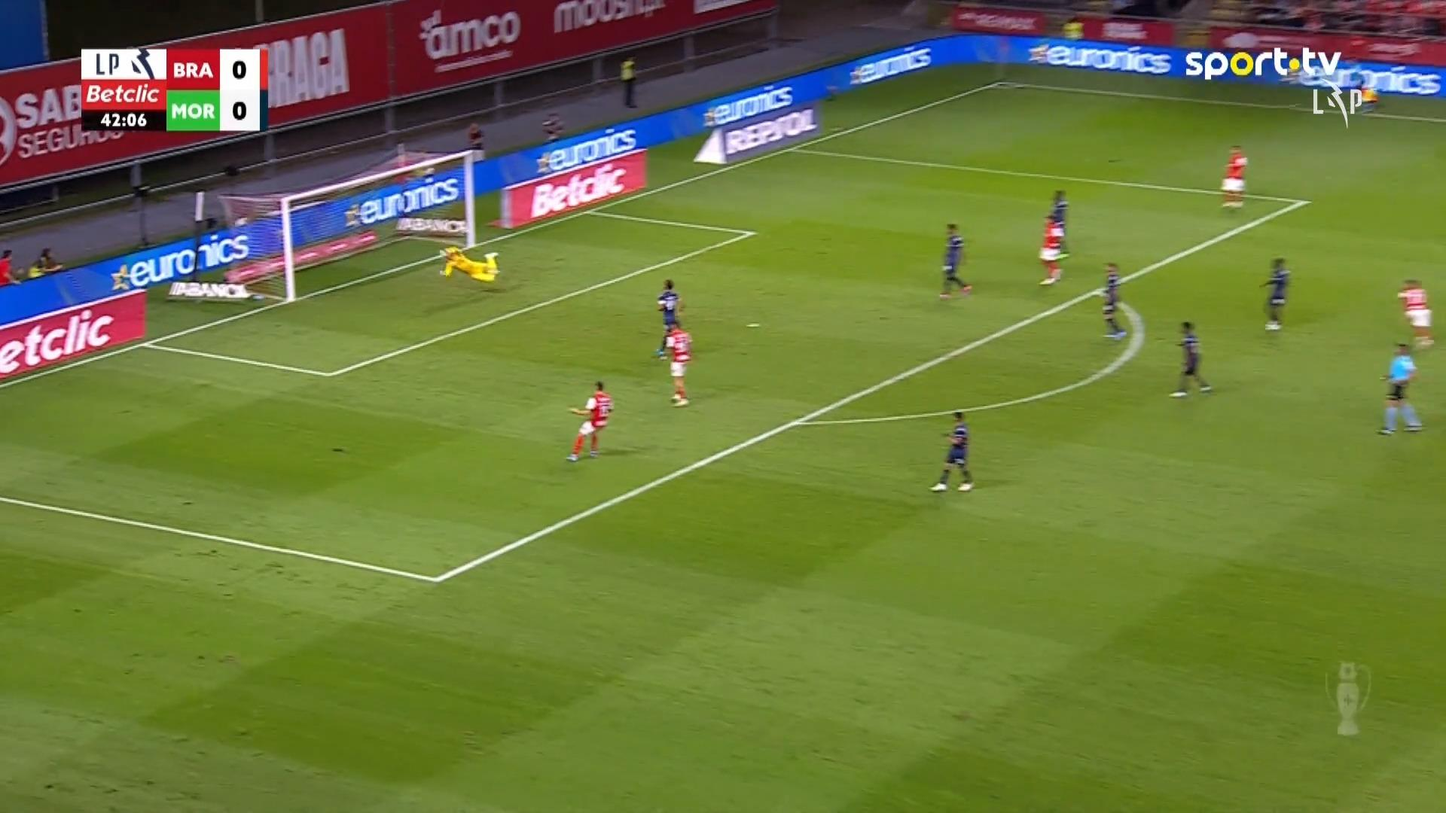goalkeeper: (437, 245, 502, 283)
player: (565, 379, 614, 461), (929, 410, 974, 491), (1169, 319, 1213, 397), (660, 319, 692, 406), (1396, 278, 1435, 349), (938, 222, 972, 299), (1259, 255, 1291, 330), (654, 278, 683, 358), (1100, 261, 1127, 339), (1038, 213, 1067, 285), (1219, 143, 1248, 209)
referee: (1377, 341, 1423, 434)
